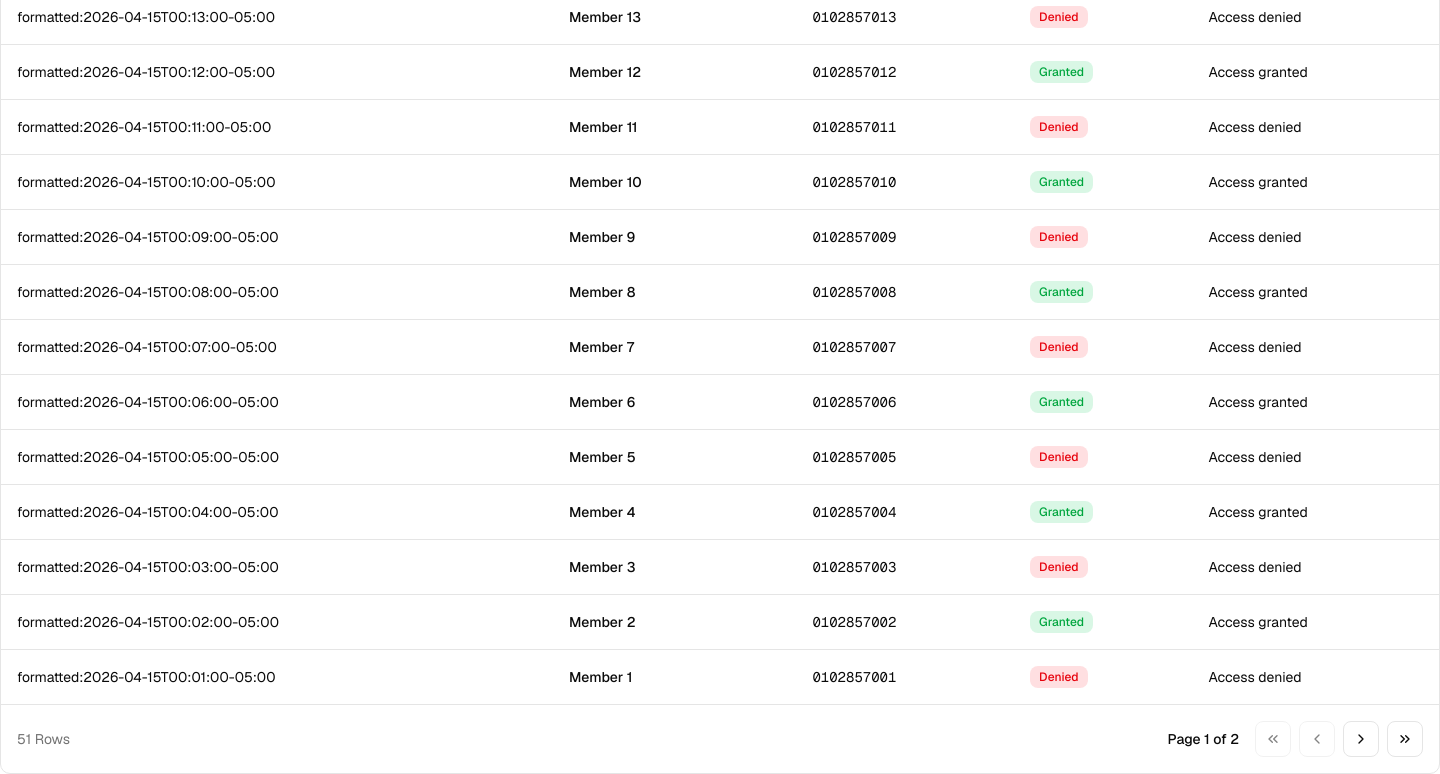
Test: DoorHistoryPage › resets to the first page when the unknown-entry toggle changes
The width and height of the screenshot is (1440, 774).
(page scrolled)
Click the button named "Go to next page" at (1361, 738), box x1=1343 y1=720 x2=1379 y2=756
(page scrolled)
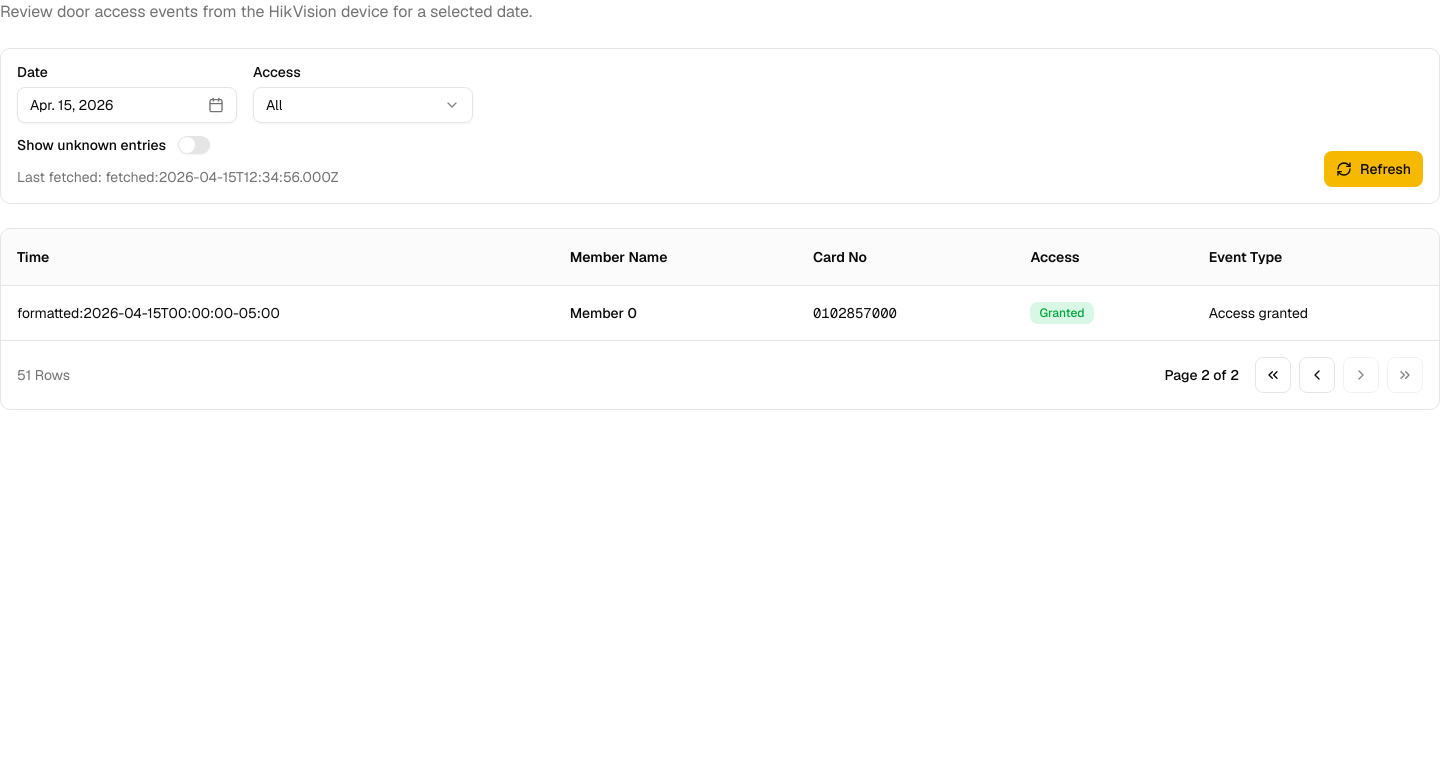
Now the text "Page 2 of 2" is shown, box x1=1164 y1=364 x2=1239 y2=384
Click the switch with id "door-history-show-unknown" at (194, 145), box x1=178 y1=136 x2=210 y2=154
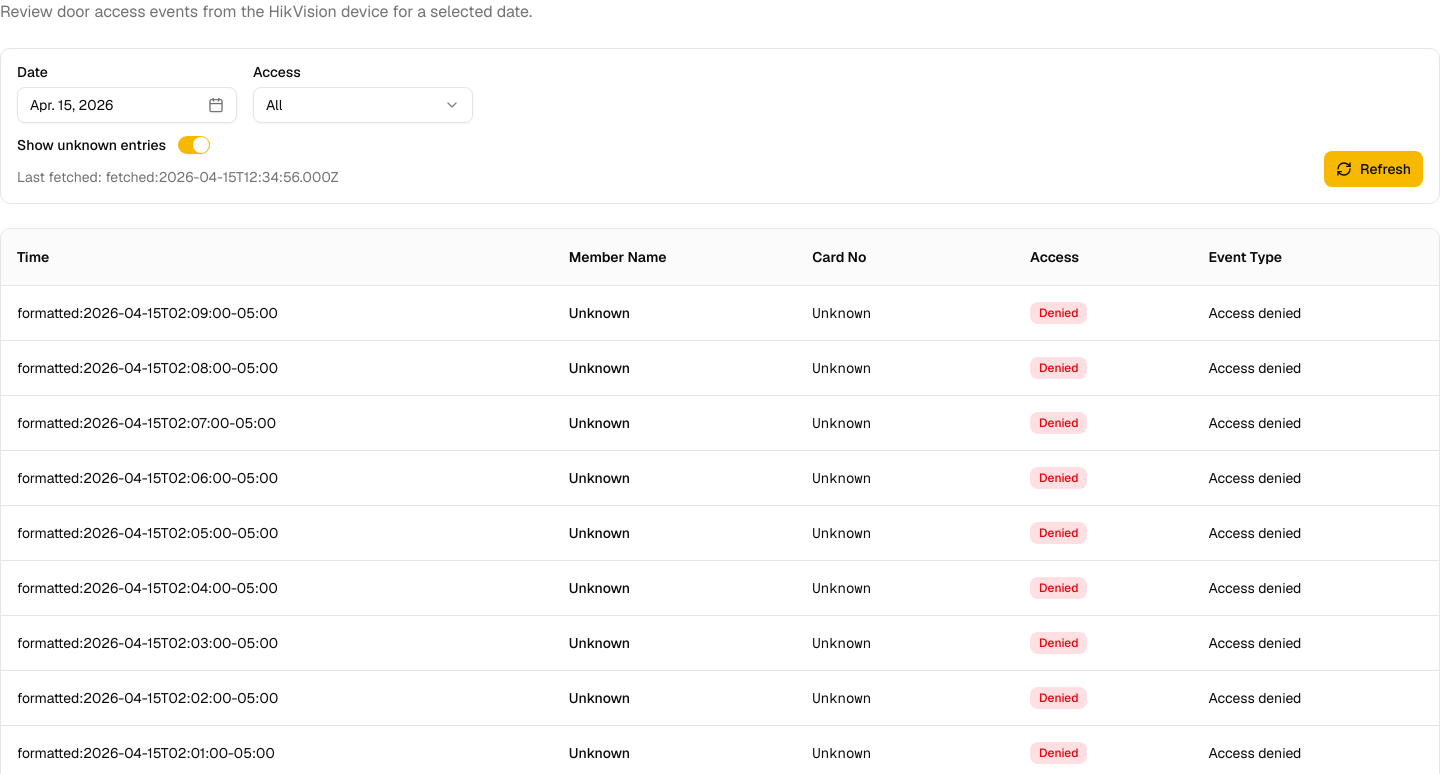
Now the row that starts with "formatted:2026-04-15T02:09:00-05:00" is shown, box x1=17 y1=304 x2=278 y2=322
